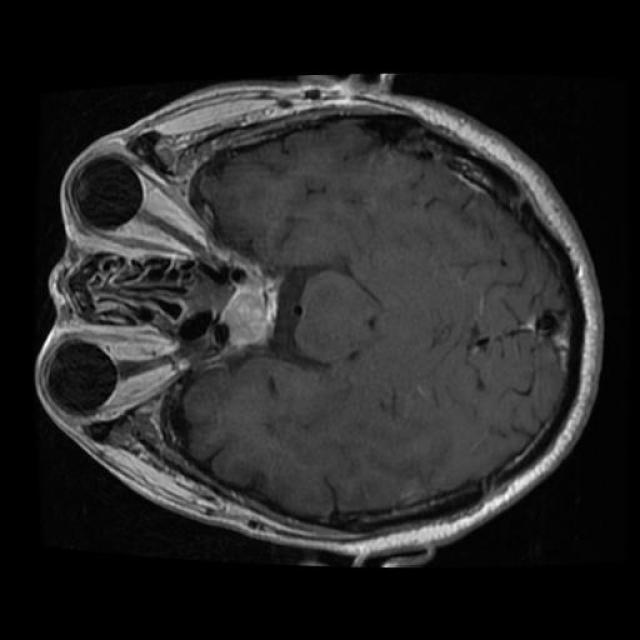Pituitary: (212, 269, 284, 356)
